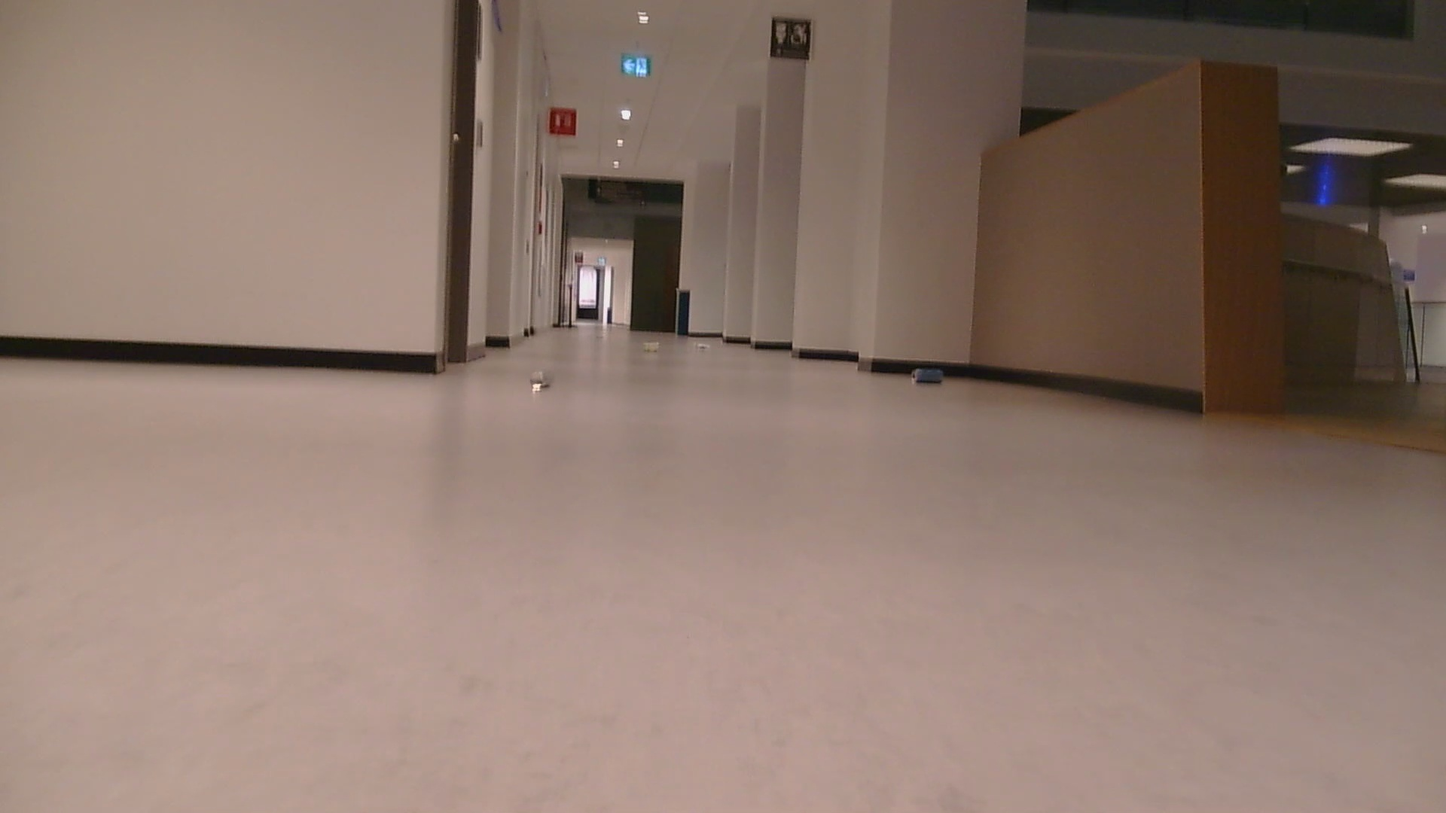carton: (905, 357, 956, 395), (634, 331, 682, 361), (526, 364, 562, 396), (694, 337, 716, 358)
